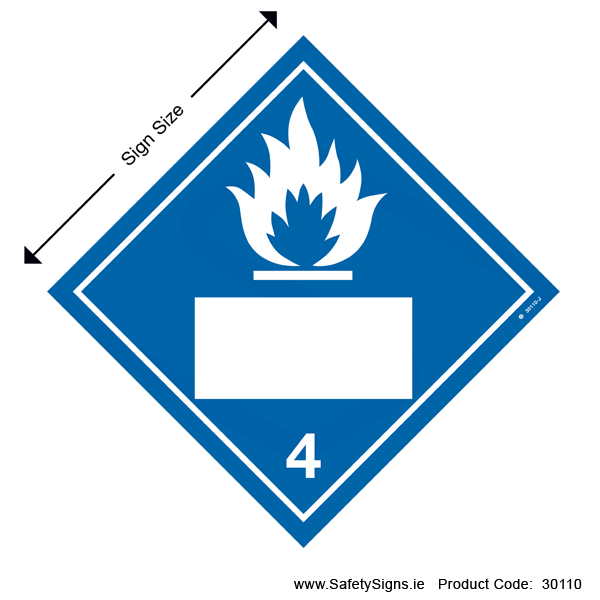Dangerous when wet: (48, 35, 559, 548)
